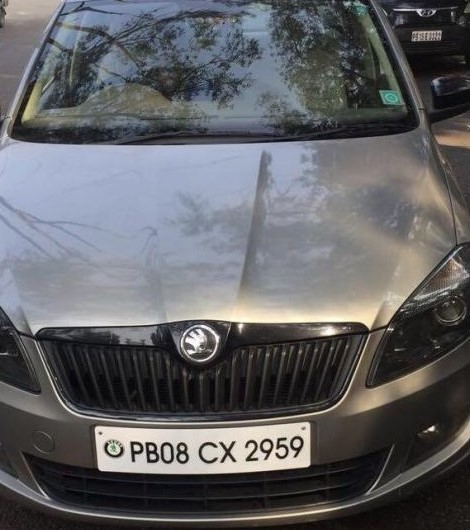PB08CX2959: (95, 420, 310, 475)
